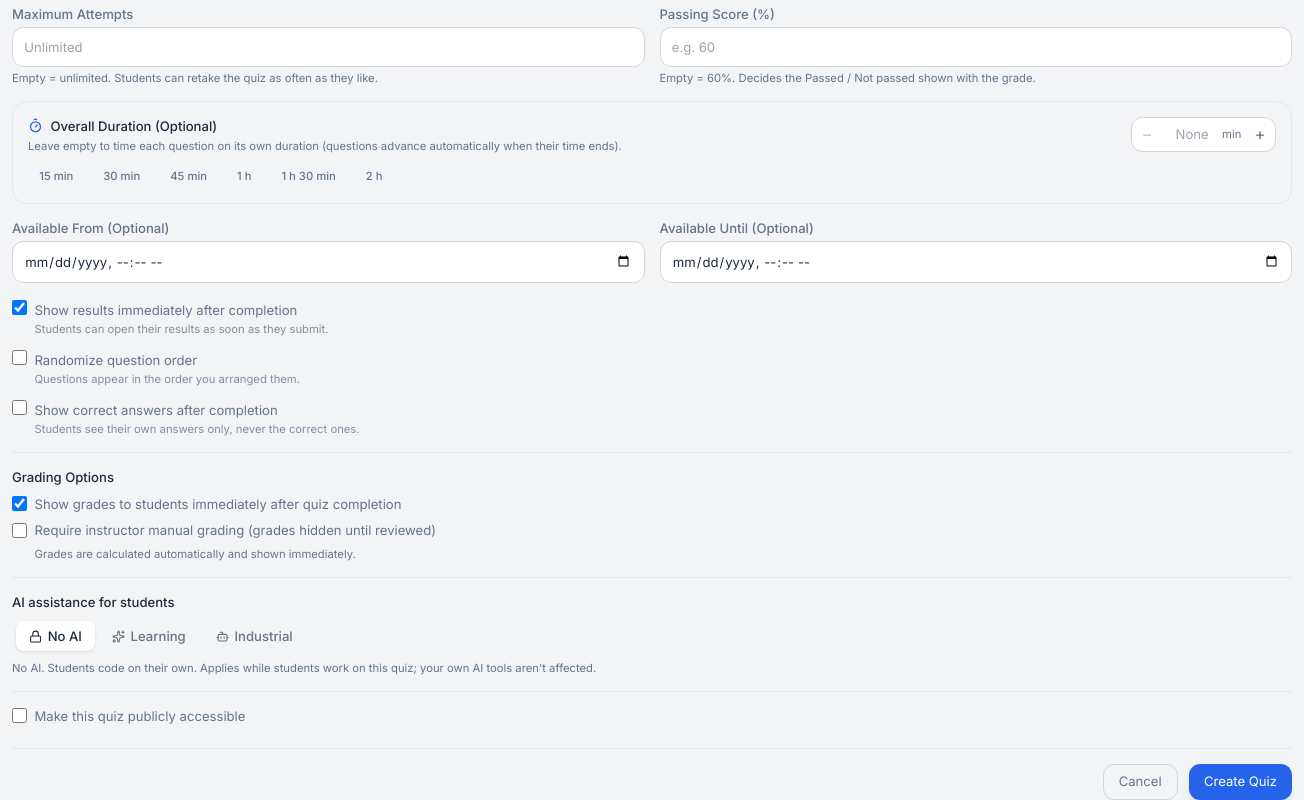
QuizForm › shows non-blocking warnings for conflicting settings
The image size is (1304, 800).
(page scrolled)
Click the checkbox labelled "Show correct answers after completion" at (20, 408), box 12,400 -> 27,415
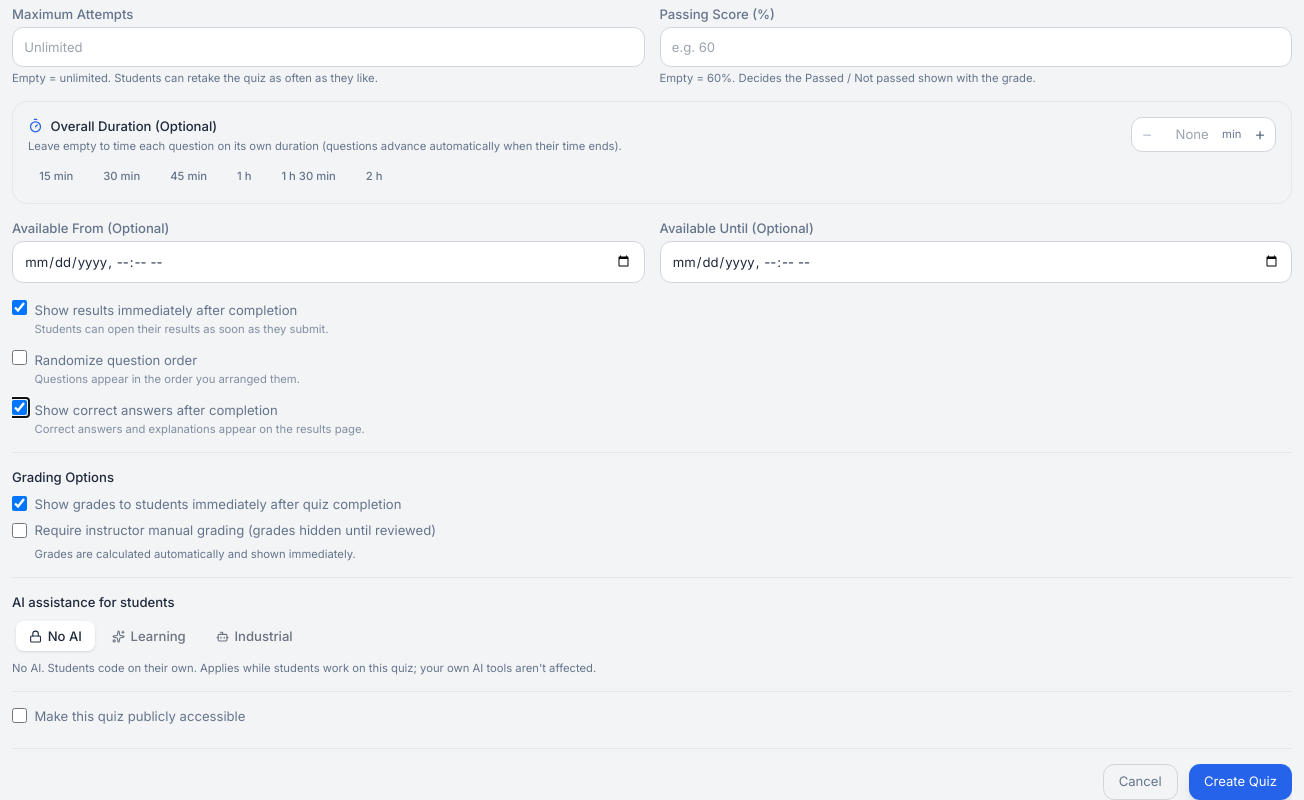
Click the checkbox labelled "Require instructor manual grading" at (20, 530), box 12,523 -> 27,538
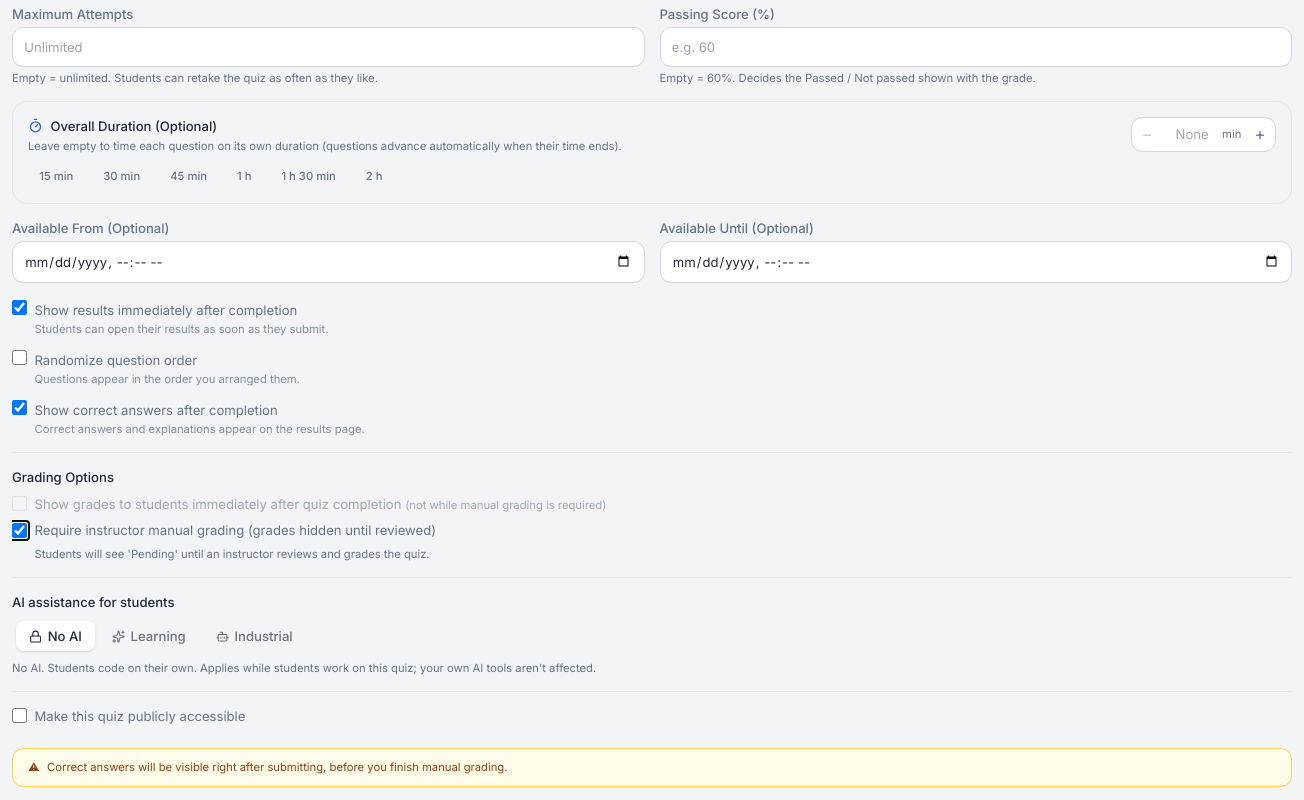
Expected: the list named "Settings to double-check" shows "before you finish manual grading", 47,760 -> 508,774
